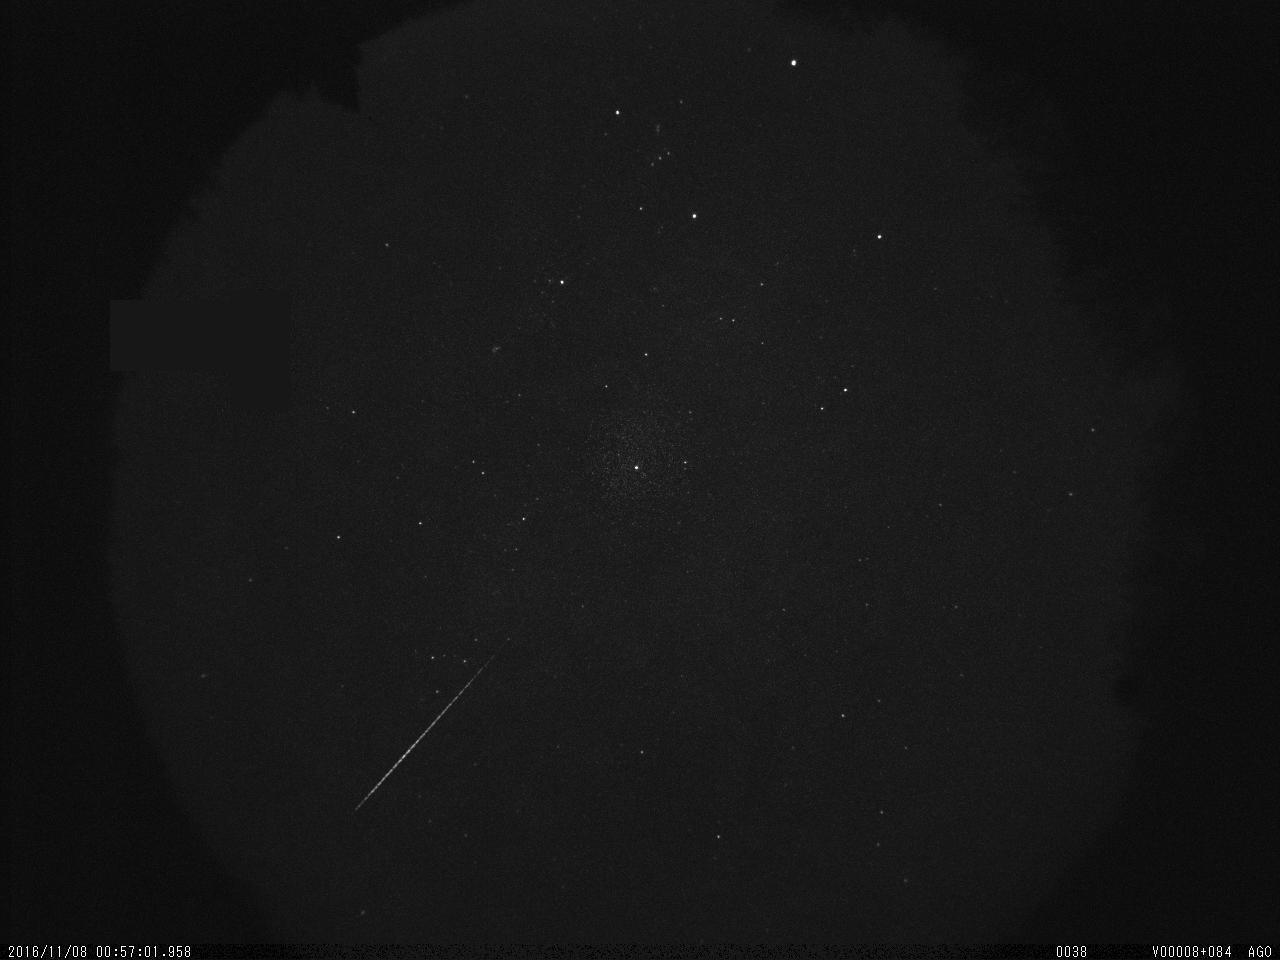meteor: (335, 624, 563, 834)
